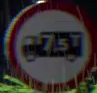Heavy Vehicles: (2, 0, 94, 92)
